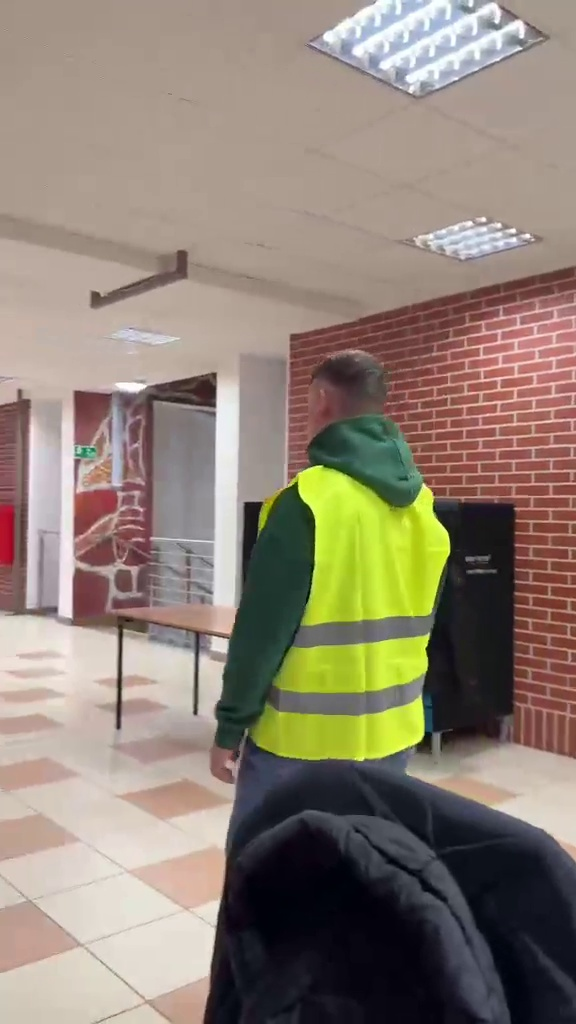vest: (211, 344, 457, 784)
